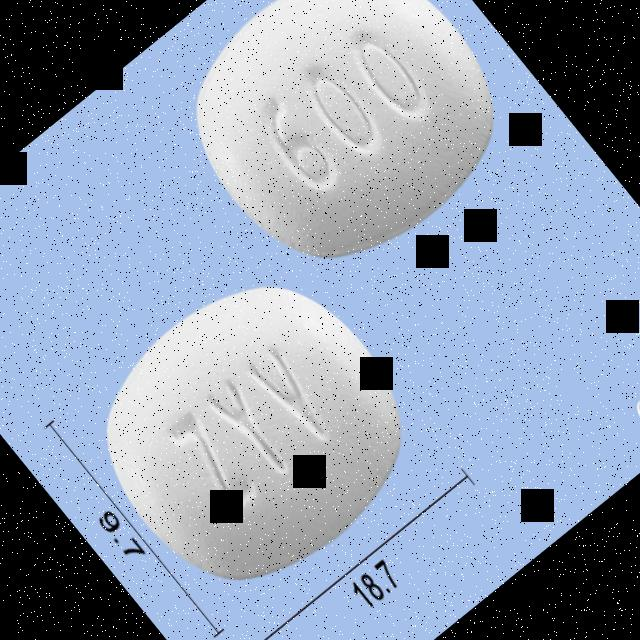Zyvox Tab: (59, 239, 448, 627), (151, 0, 538, 306)
